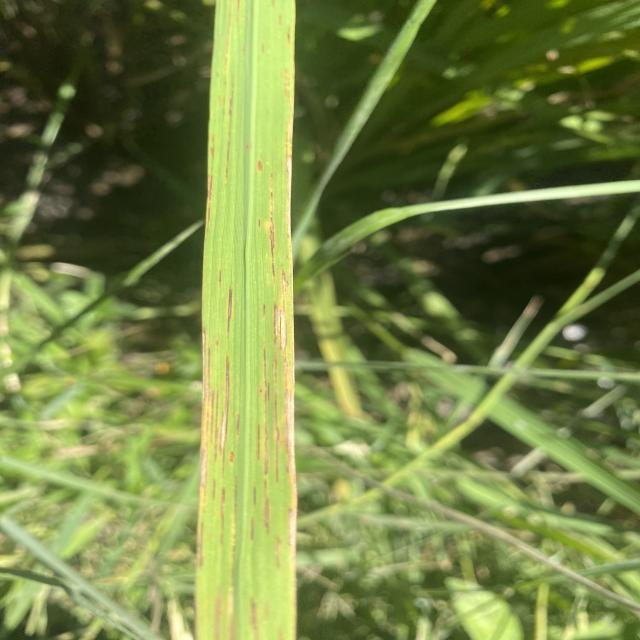Dom soc vi khuan: (274, 268, 288, 394), (220, 353, 230, 464), (263, 346, 270, 475), (273, 361, 280, 483), (271, 171, 275, 284), (227, 285, 232, 338), (258, 424, 260, 460)
